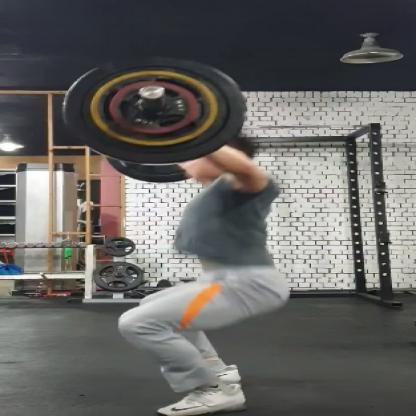Barbell: (58, 52, 253, 166)
